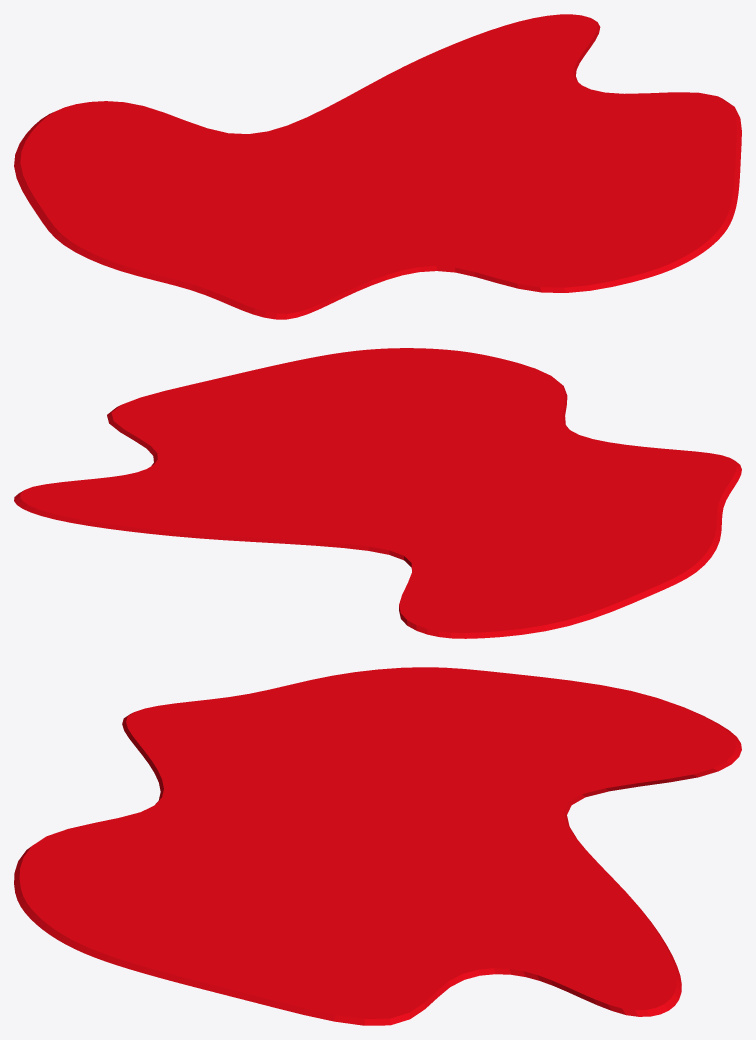
The model's file is puddle3.fbx.
3 renders of one model, top to bottom at view 1: azimuth 30°, elevation 25°; view 2: azimuth 150°, elevation 25°; view 3: azimuth 270°, elevation 25°, orthographic. The views are drawn at different scales.
Parts seen in each view (by area): view 1: Plane.001; view 2: Plane.001; view 3: Plane.001.
Part boxes in pixels (left/top/right/bottom): Plane.001: left=14, top=14, right=741, bottom=319; Plane.001: left=14, top=348, right=741, bottom=638; Plane.001: left=14, top=667, right=741, bottom=1025.
Bounding box in the file's own units: 262 × 1.39 × 225.
